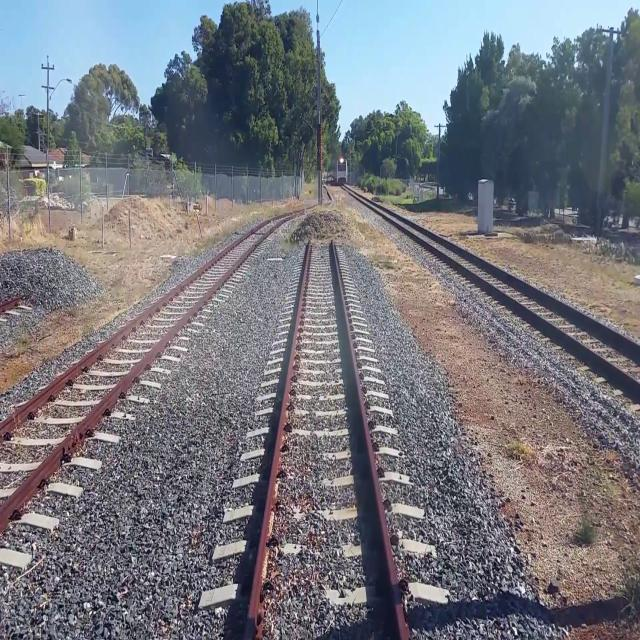rail-track: (0, 205, 317, 510), (250, 231, 405, 639), (340, 184, 640, 380), (322, 187, 331, 205)
